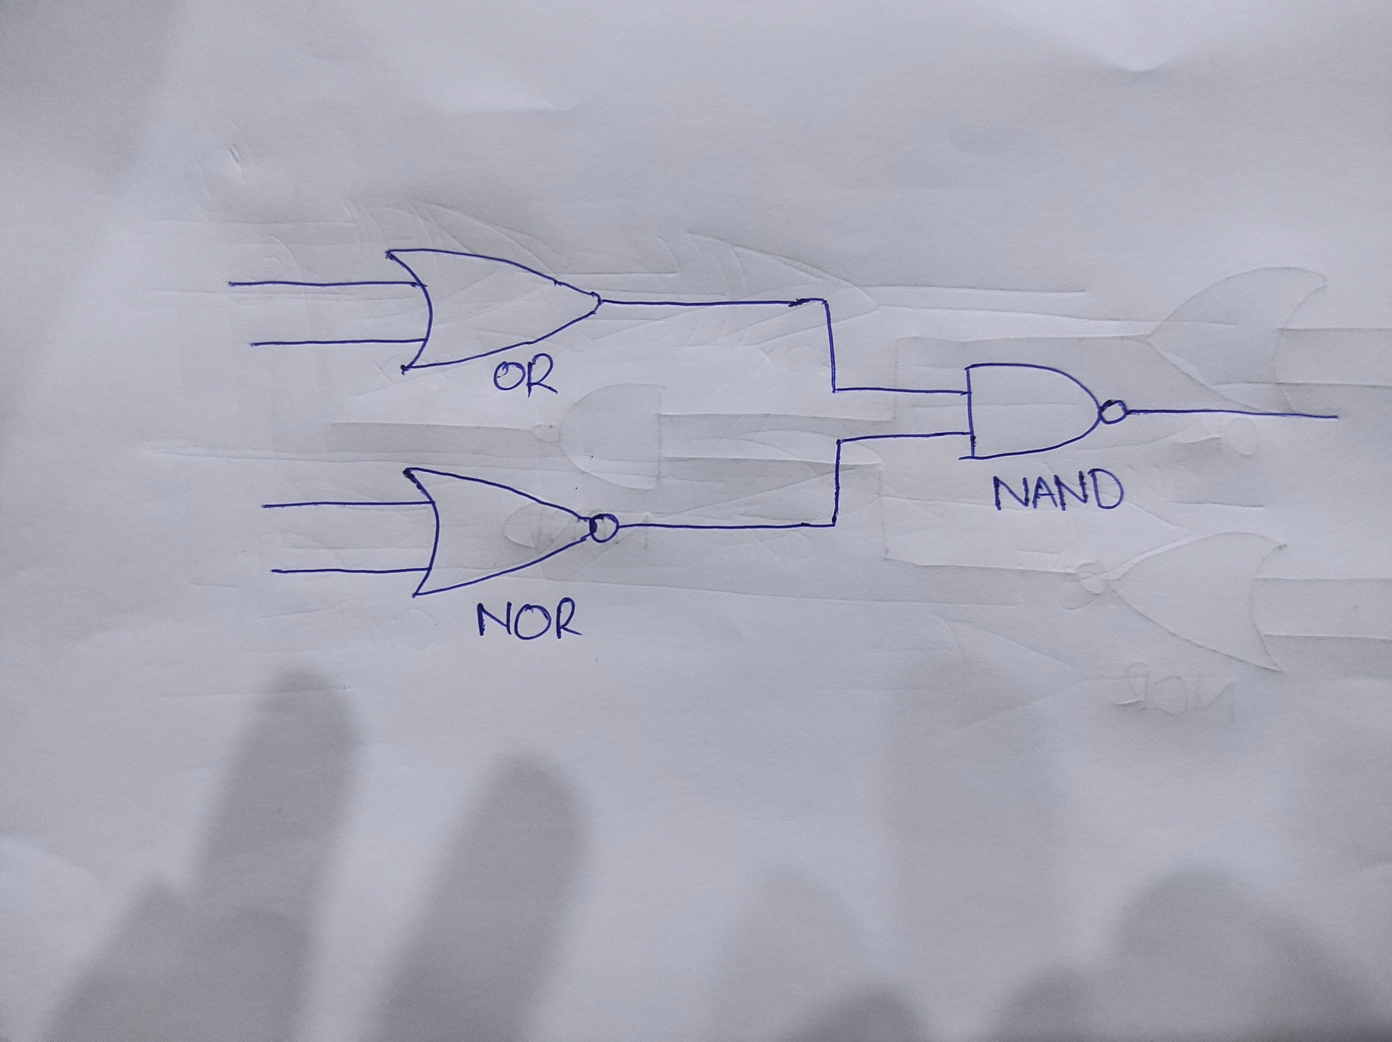junction: (810, 289, 838, 313), (822, 511, 843, 535), (825, 380, 844, 400), (830, 432, 848, 450)
nand: (955, 359, 1135, 463)
nor: (396, 462, 622, 599)
or: (380, 245, 606, 377)
terminal: (1321, 406, 1350, 429), (217, 274, 246, 296), (240, 335, 266, 354), (253, 499, 274, 516), (266, 564, 282, 579)
text: (989, 466, 1129, 516), (479, 594, 582, 646), (492, 351, 561, 400)
